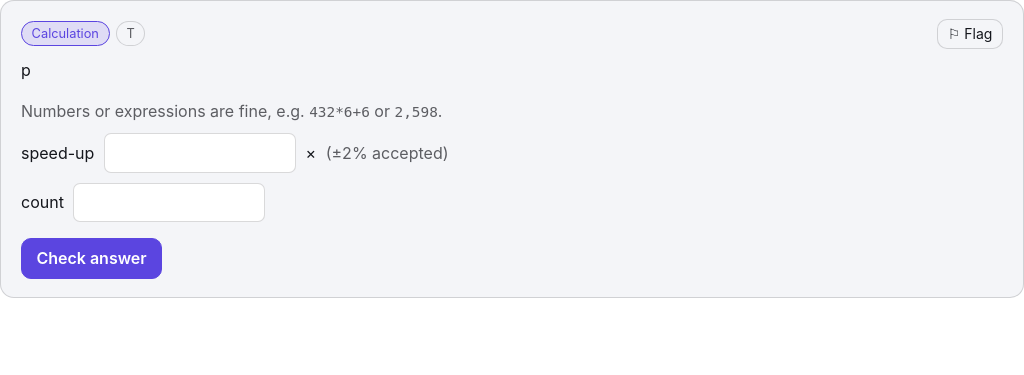
Scenario: calculation › shows the tolerance, accepts expressions, and states the expected value when wrong
Check: the text "(±2% accepted)" is shown, box [326,141,448,166]
Step 1. Type "125/34" into the field named "speed-up" → (200, 153), box [104,133,296,173]
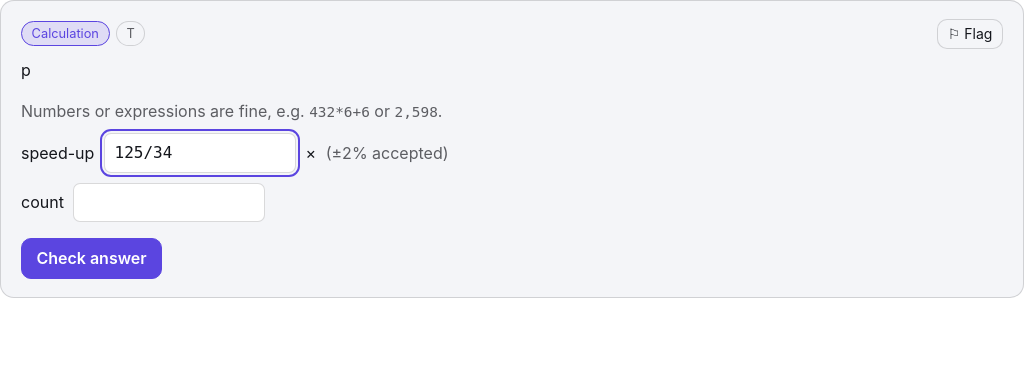
Step 2. Type "2599" into the field named "count" → (170, 202), box [74,183,266,222]
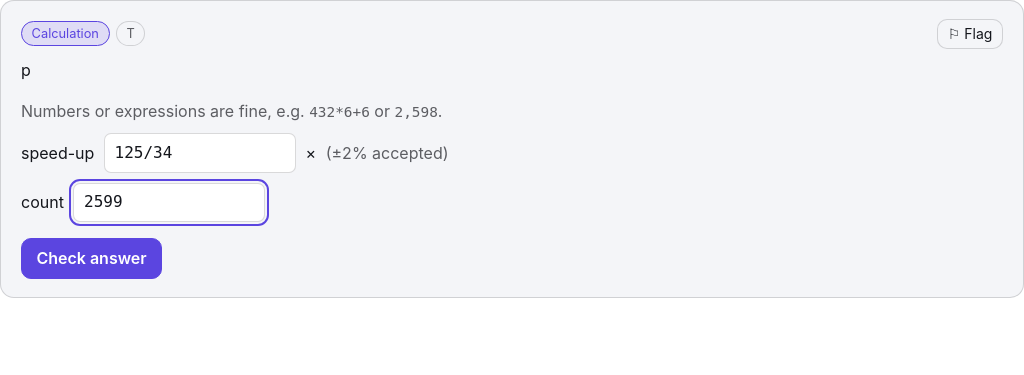
Step 3. Click the button "Check answer" → (92, 259), box [21,238,162,279]
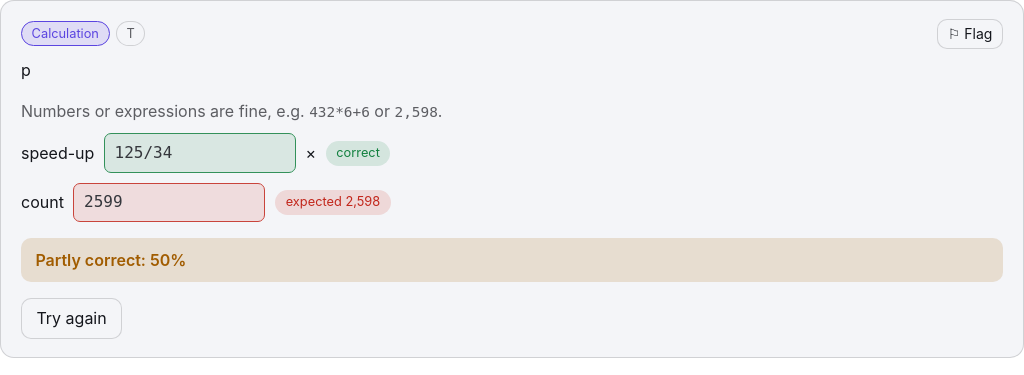
Check: the text "expected 2,598" is shown, box [275,190,391,215]
Check: the message "Partly correct: 50%" is shown, box [21,238,1003,282]
